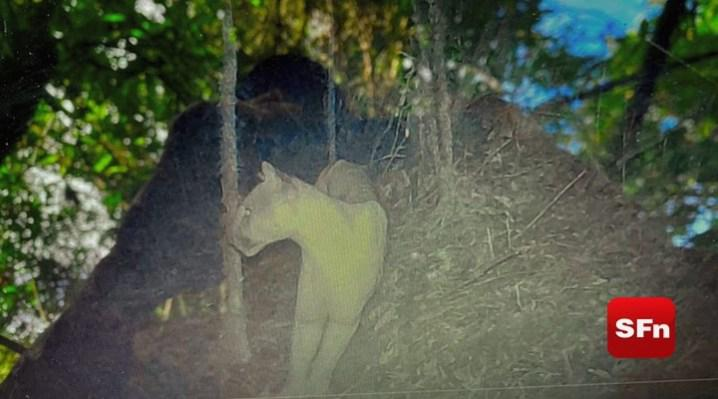OncaParda: (226, 148, 393, 378)
